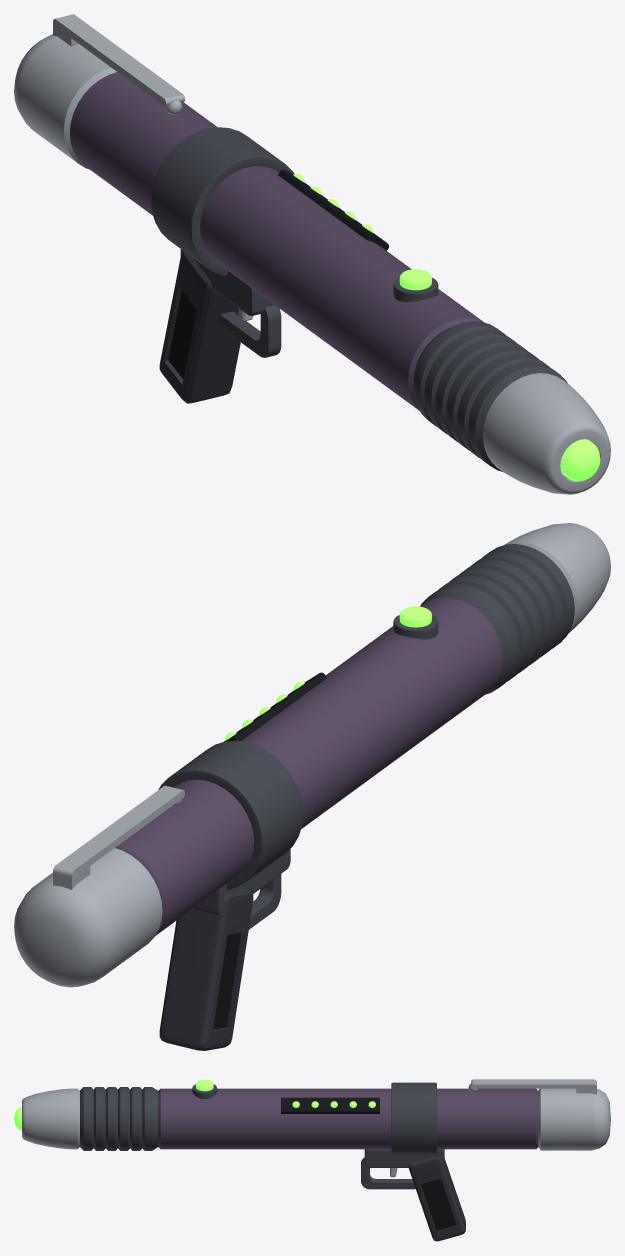
File: w_laser.glb
The picture shows the model from 3 angles, top to bottom: view 1: azimuth 30°, elevation 25°; view 2: azimuth 150°, elevation 25°; view 3: azimuth 270°, elevation 25°; orthographic projection. The views are drawn at different scales.
Visible parts, largest first — view 1: body_wzA__body__p5b4b66, pen_wzB__steel__pa9afb8, band_wzB__frame__p444851, mount_wzB__frame__p444851, grip_wzB__dark__p353840, clip_wzN__steel__pa9afb8, guard_wzB__frame__p444851, grip_wzN__black__p16171b, emitter_wzN__glow__n66ff44, meter_wzN__black__p16171b, bezel_wzN__frame__p444851; view 2: body_wzA__body__p5b4b66, pen_wzB__steel__pa9afb8, band_wzB__frame__p444851, mount_wzB__frame__p444851, grip_wzB__dark__p353840, clip_wzN__steel__pa9afb8, grip_wzN__black__p16171b, meter_wzN__black__p16171b, guard_wzB__frame__p444851; view 3: body_wzA__body__p5b4b66, pen_wzB__steel__pa9afb8, band_wzB__frame__p444851, mount_wzB__frame__p444851, grip_wzB__dark__p353840, meter_wzN__black__p16171b, clip_wzN__steel__pa9afb8, grip_wzN__black__p16171b, guard_wzB__frame__p444851.
Part boxes in pixels (x1,y1,x2,y2): body_wzA__body__p5b4b66: (69, 72, 483, 410); pen_wzB__steel__pa9afb8: (14, 34, 610, 494); band_wzB__frame__p444851: (413, 321, 567, 471); mount_wzB__frame__p444851: (151, 127, 294, 315); grip_wzB__dark__p353840: (159, 251, 240, 403); clip_wzN__steel__pa9afb8: (53, 14, 184, 114); guard_wzB__frame__p444851: (218, 305, 281, 357); grip_wzN__black__p16171b: (168, 290, 196, 379); emitter_wzN__glow__n66ff44: (560, 439, 600, 481); meter_wzN__black__p16171b: (278, 169, 388, 250); bezel_wzN__frame__p444851: (393, 277, 438, 302); body_wzA__body__p5b4b66: (115, 597, 502, 935); pen_wzB__steel__pa9afb8: (14, 523, 610, 987); band_wzB__frame__p444851: (420, 544, 574, 694); mount_wzB__frame__p444851: (158, 740, 303, 914); grip_wzB__dark__p353840: (159, 889, 253, 1050); clip_wzN__steel__pa9afb8: (53, 785, 184, 889); grip_wzN__black__p16171b: (213, 933, 241, 1029); meter_wzN__black__p16171b: (224, 672, 326, 741); guard_wzB__frame__p444851: (248, 874, 281, 929); body_wzA__body__p5b4b66: (158, 1088, 538, 1149); pen_wzB__steel__pa9afb8: (22, 1088, 610, 1150); band_wzB__frame__p444851: (80, 1087, 158, 1150); mount_wzB__frame__p444851: (364, 1082, 444, 1167); grip_wzB__dark__p353840: (408, 1156, 465, 1241); meter_wzN__black__p16171b: (281, 1097, 379, 1113); clip_wzN__steel__pa9afb8: (468, 1079, 596, 1094); grip_wzN__black__p16171b: (421, 1179, 456, 1230); guard_wzB__frame__p444851: (361, 1157, 415, 1189).
Bounding box in the file's own units: 0.095 × 0.224 × 0.784.
